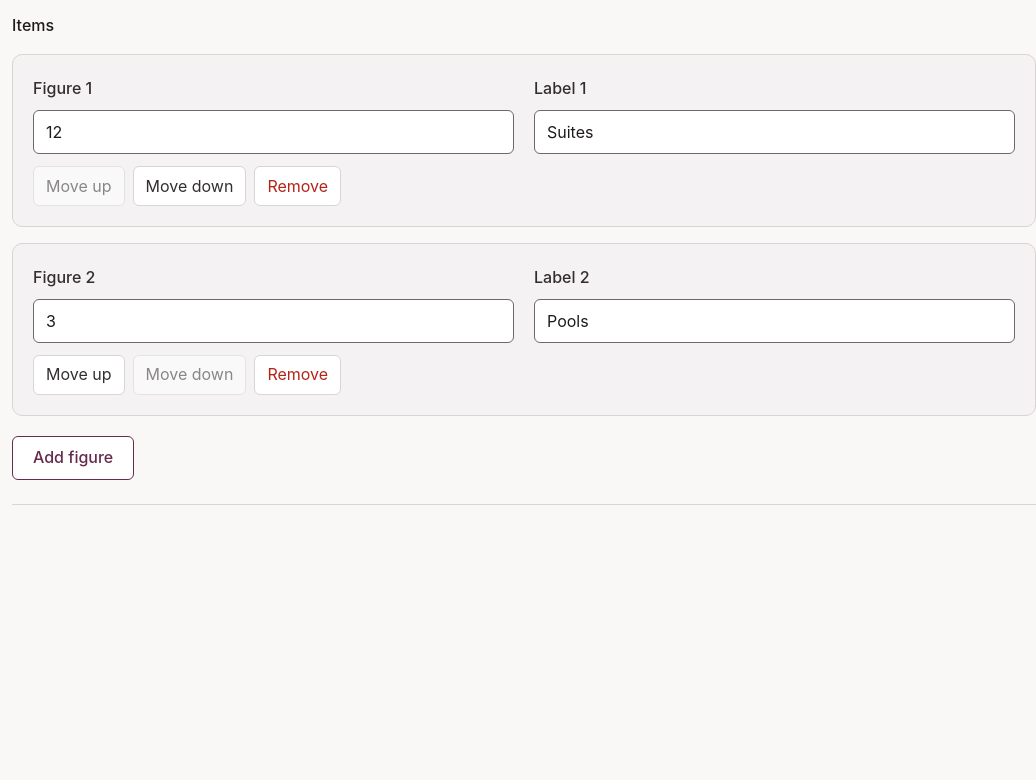
Test: RepeatableFields › enforces the minimum and maximum
Click the button "Add figure" at (73, 458), box [12,436,134,480]
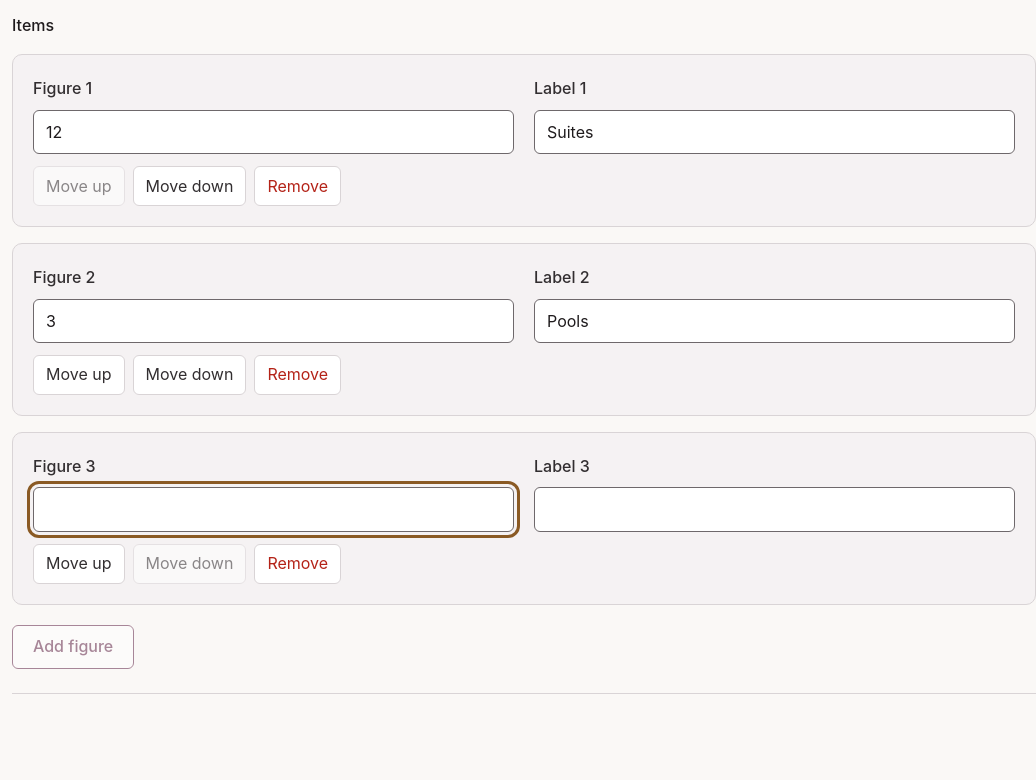
Expected: the button "Add figure" is disabled, [12,625,134,669]
Click the button with aria-label "Remove: 12" at (298, 186), box [254,166,341,206]
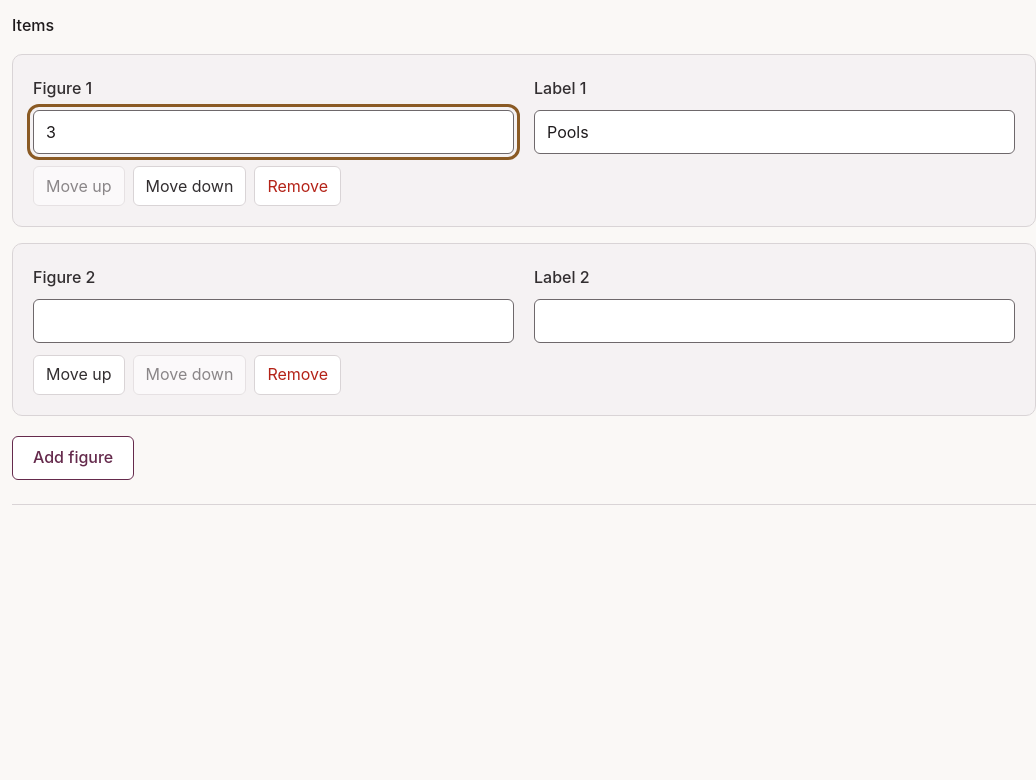
Click the button with aria-label "Remove: 3" at (298, 186), box [254,166,341,206]
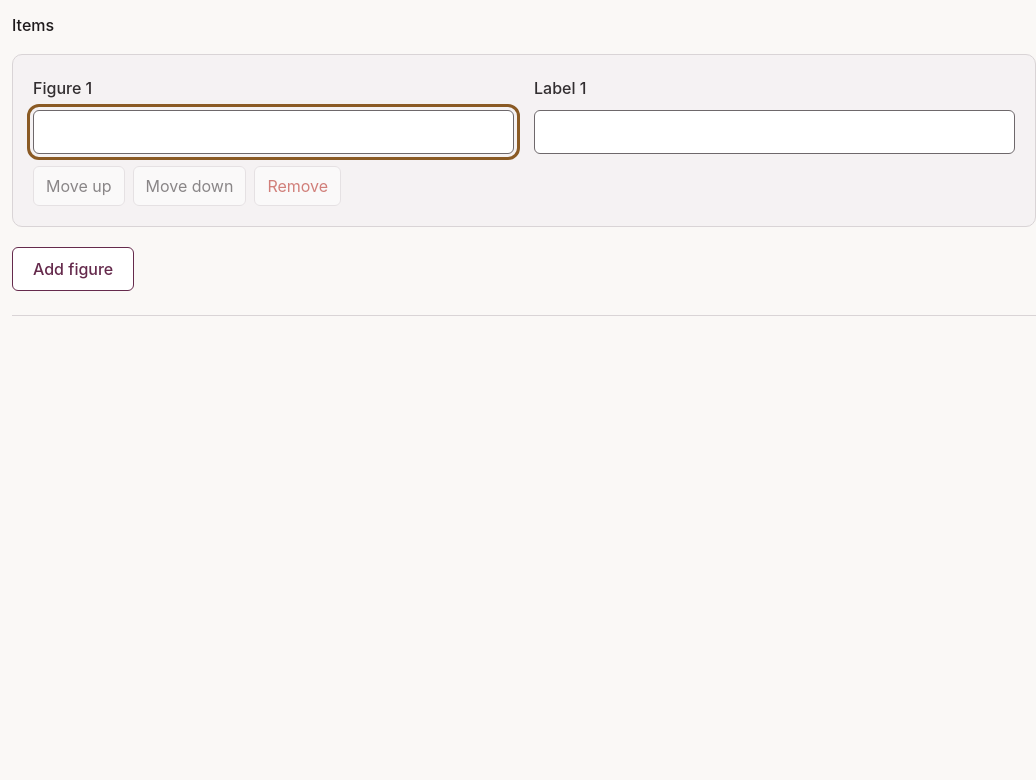
Expected: the button "Remove" is disabled, [254,166,341,206]
